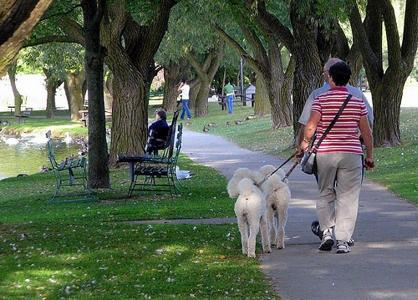person: (303, 64, 373, 249)
